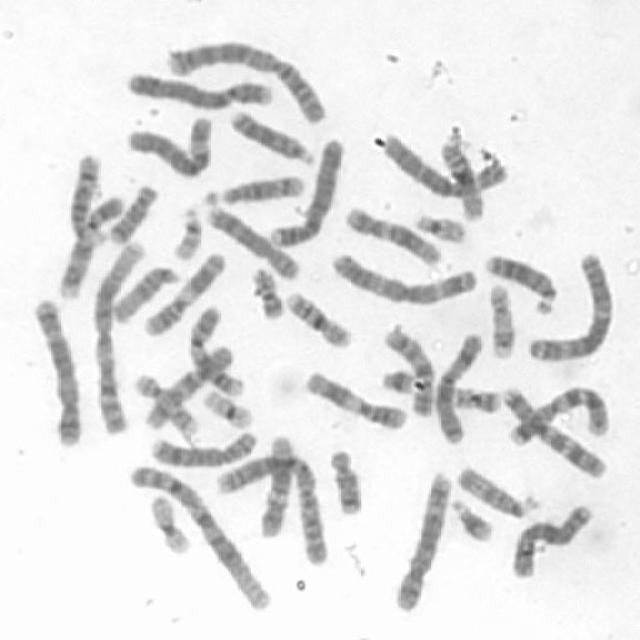A1: (127, 463, 272, 612), (91, 237, 148, 436)
A2: (166, 40, 328, 125), (213, 452, 330, 567)
A3: (528, 251, 614, 362), (330, 251, 479, 307)
B4: (266, 136, 346, 250), (126, 71, 274, 111)
B5: (394, 468, 456, 615), (31, 299, 86, 449)
C10: (143, 345, 238, 429), (382, 327, 437, 419)
C11: (142, 250, 226, 336), (303, 368, 410, 432)
C12: (344, 205, 446, 267), (256, 434, 294, 540)
C6: (382, 131, 511, 199), (126, 115, 215, 178)
C7: (499, 382, 609, 481), (509, 386, 610, 448)
C8: (205, 202, 304, 282), (148, 428, 258, 471)
C9: (57, 195, 126, 301), (186, 304, 244, 398)
D13: (228, 108, 319, 167), (485, 252, 559, 317)
D14: (66, 154, 105, 248), (204, 174, 304, 210)
D15: (456, 465, 541, 520), (111, 264, 181, 326)
E16: (284, 290, 354, 350), (438, 139, 486, 223)
E17: (131, 372, 201, 439), (488, 283, 516, 359)
E18: (108, 183, 158, 246), (328, 447, 363, 515)
F19: (149, 492, 192, 556), (201, 390, 256, 430)
F20: (250, 269, 284, 322), (455, 384, 501, 416)
G21: (449, 498, 495, 544), (378, 366, 416, 398)
G22: (414, 212, 468, 245), (171, 207, 202, 261)
X: (510, 505, 592, 584), (432, 331, 483, 446)
